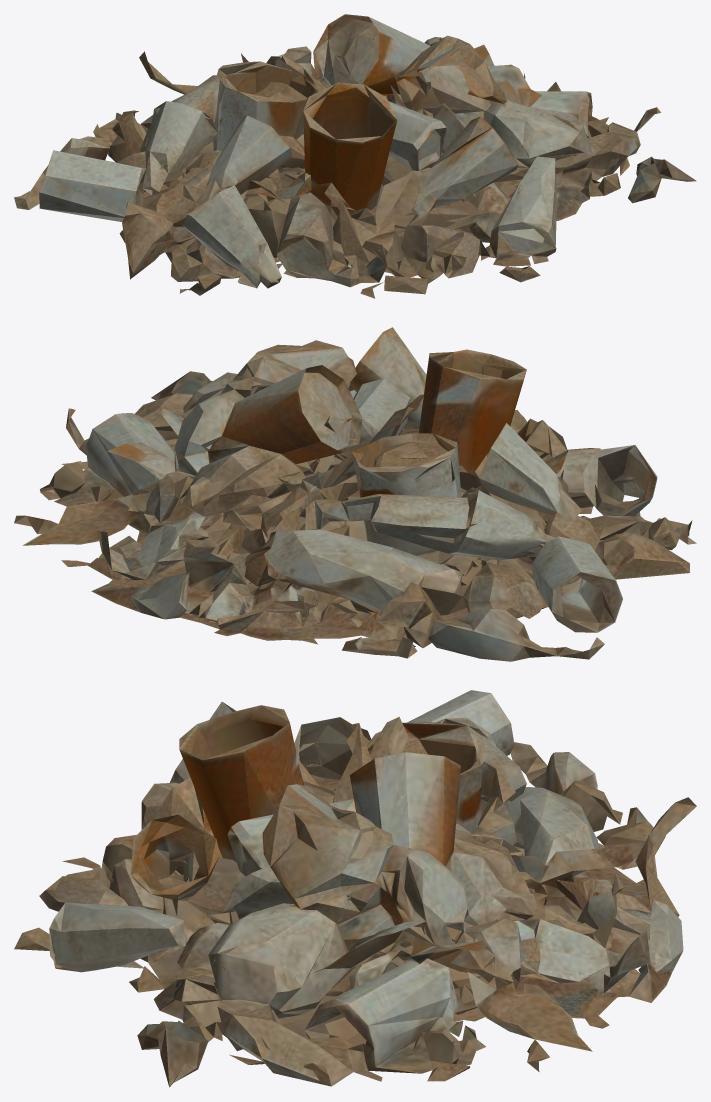
Rendered from detriti.glb.
3 views of the same model, one above another, from view 1: azimuth 30°, elevation 25°; view 2: azimuth 150°, elevation 25°; view 3: azimuth 270°, elevation 25° (orthographic). The views are drawn at different scales.
Parts seen in each view (by area): view 1: Mesh_0; view 2: Mesh_0; view 3: Mesh_0.
Part boxes in pixels (left/top/right/bottom): Mesh_0: left=14, top=14, right=696, bottom=298; Mesh_0: left=14, top=327, right=696, bottom=661; Mesh_0: left=14, top=690, right=696, bottom=1087.
Bounding box in the file's own units: 0.7 × 0.1829 × 0.5872.
1 material, 1 textured.
